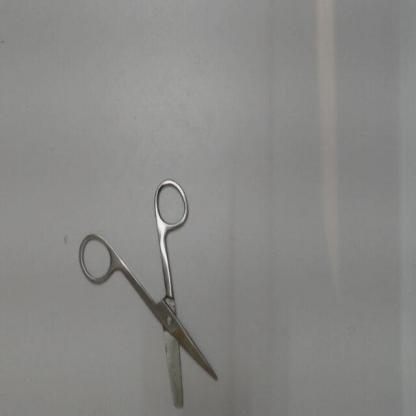Dressing Scissors: (70, 169, 223, 413)
